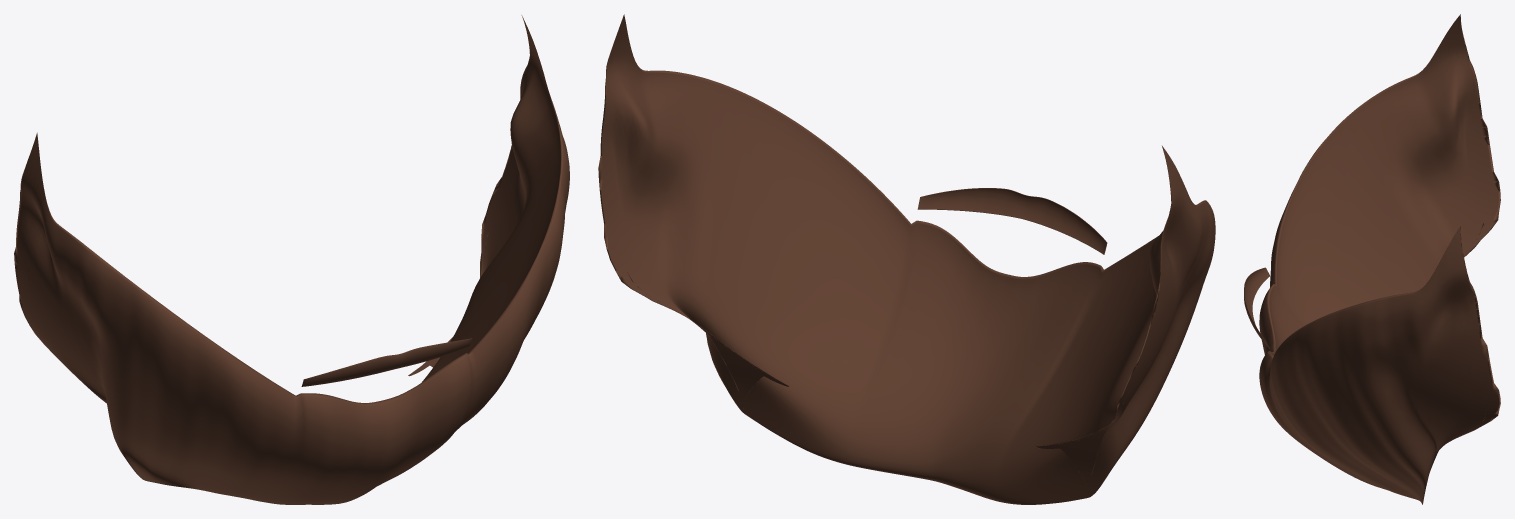
The model's file is Masculine-Masculine-groom-long-1250ee1a.glb.
The picture shows the model from 3 angles, left to right: view 1: azimuth 30°, elevation 25°; view 2: azimuth 150°, elevation 25°; view 3: azimuth 270°, elevation 25°; orthographic projection. The views are drawn at different scales.
Parts seen in each view (by area): view 1: Groom / rounded long188, Groom / shared mustache208; view 2: Groom / rounded long188, Groom / shared mustache208; view 3: Groom / rounded long188, Groom / shared mustache208.
Part boxes in pixels (x1,y1,x2,y2): Groom / rounded long188: (14, 15, 569, 504); Groom / shared mustache208: (301, 338, 472, 386); Groom / rounded long188: (598, 14, 1215, 504); Groom / shared mustache208: (917, 188, 1107, 254); Groom / rounded long188: (1259, 14, 1500, 504); Groom / shared mustache208: (1244, 267, 1270, 349).
Bounding box in the file's own units: 0.7437 × 0.548 × 0.3631.
